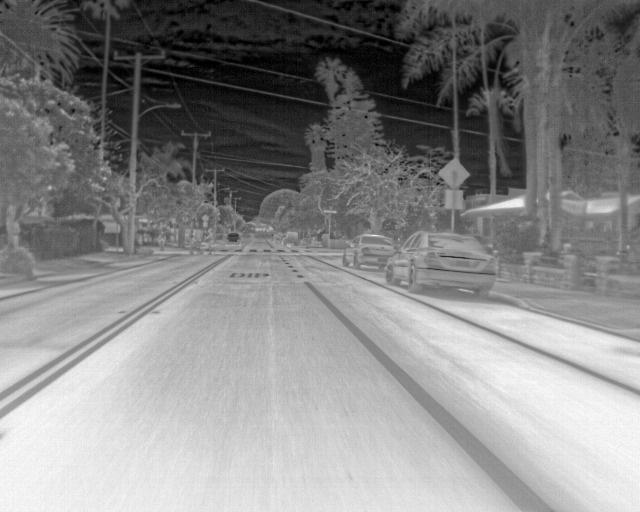car: (385, 230, 499, 297), (341, 234, 394, 271), (282, 228, 300, 246), (226, 230, 240, 245)
